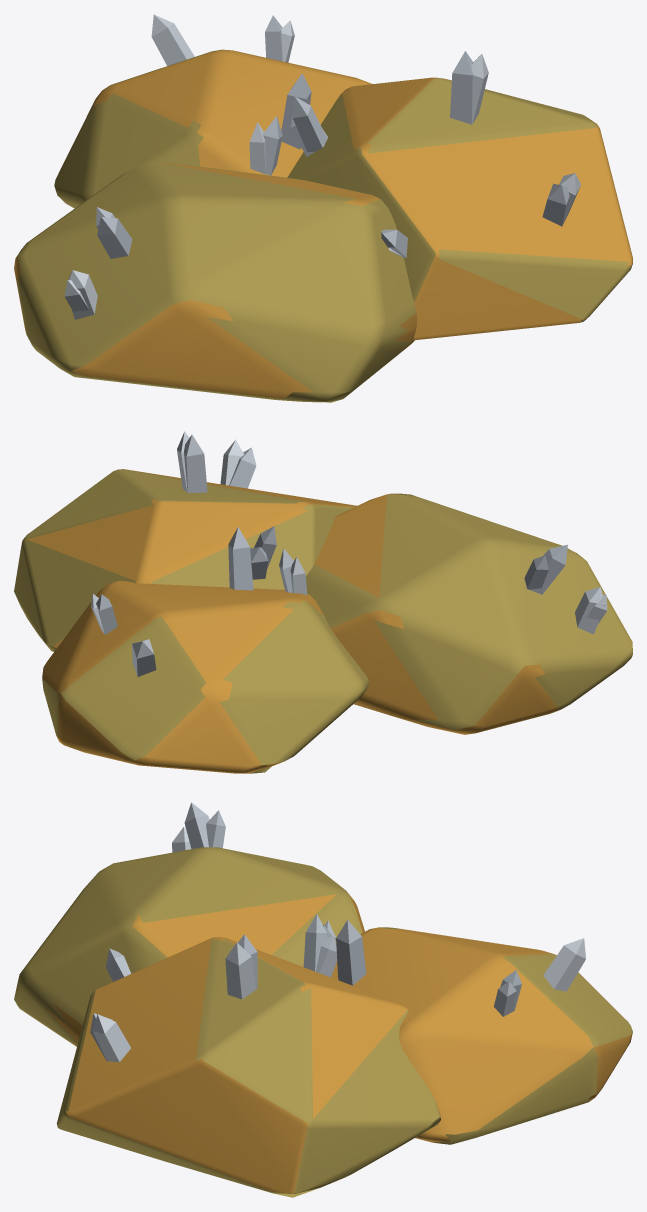
File: minerai_zinc_2.glb
3 renders of one model, top to bottom at view 1: azimuth 30°, elevation 25°; view 2: azimuth 150°, elevation 25°; view 3: azimuth 270°, elevation 25°, orthographic. The views are drawn at different scales.
Parts seen in each view (by area): view 1: minerai_zinc_roche.004, minerai_zinc_miel.004, minerai_gris_clair.008, minerai_zinc_metal.004; view 2: minerai_zinc_roche.004, minerai_zinc_miel.004, minerai_gris_clair.008, minerai_zinc_metal.004; view 3: minerai_zinc_miel.004, minerai_zinc_roche.004, minerai_gris_clair.008, minerai_zinc_metal.004.
Boxes of the visible parts, box(x1,y1,x2,y2) form: minerai_zinc_roche.004: box(16, 49, 632, 402); minerai_zinc_miel.004: box(14, 49, 632, 398); minerai_gris_clair.008: box(96, 15, 569, 258); minerai_zinc_metal.004: box(64, 14, 580, 319); minerai_zinc_roche.004: box(14, 469, 632, 773); minerai_zinc_miel.004: box(26, 470, 560, 773); minerai_gris_clair.008: box(96, 434, 567, 634); minerai_zinc_metal.004: box(91, 431, 607, 676); minerai_zinc_miel.004: box(46, 892, 632, 1193); minerai_zinc_roche.004: box(14, 847, 632, 1197); minerai_gris_clair.008: box(90, 802, 521, 1061); minerai_zinc_metal.004: box(92, 827, 585, 1062).
Size of the model in its own units: 0.5701 by 0.1794 by 0.535.
